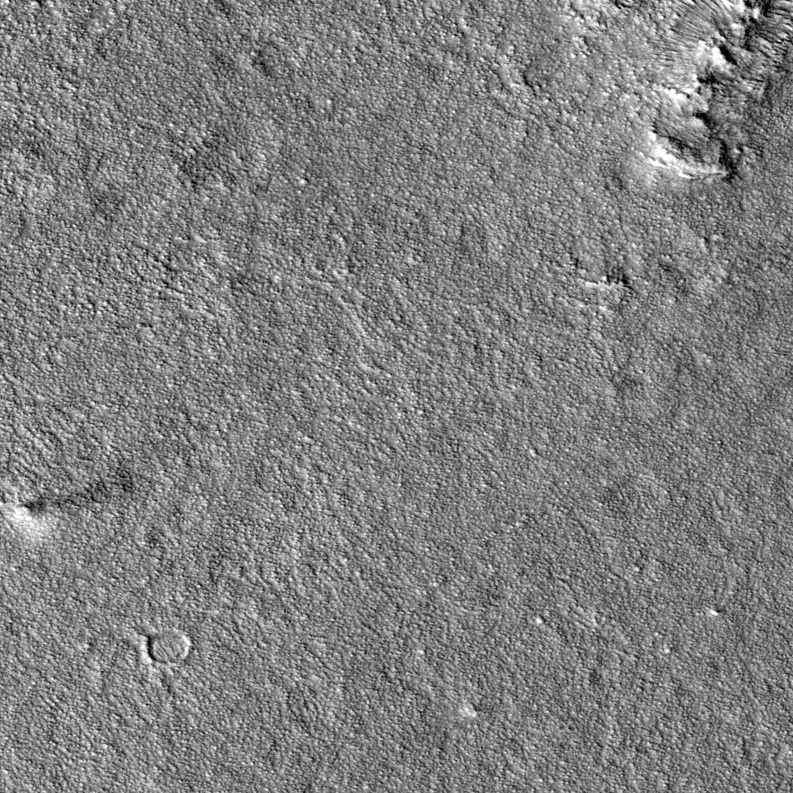dust_devil: (11, 473, 133, 542)
